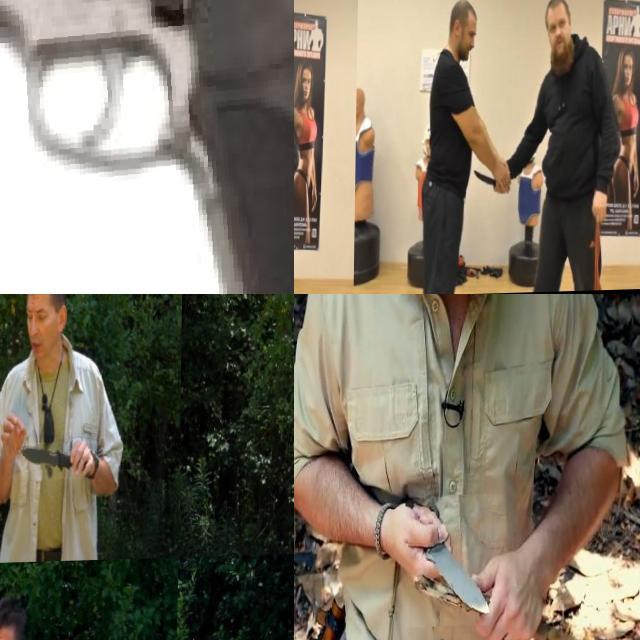-: (406, 496, 494, 630), (20, 442, 90, 482), (475, 169, 513, 199), (294, 166, 311, 198), (489, 0, 528, 12), (294, 0, 312, 19)
gun-knife-thesis - v11 Yolov5 augmented: (0, 0, 294, 294)
